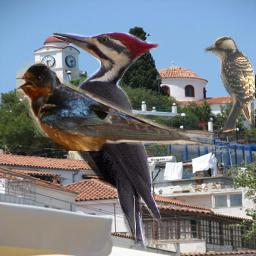Swallow: (16, 61, 214, 151)
Woodpecker: (49, 32, 163, 249), (204, 36, 255, 132)
